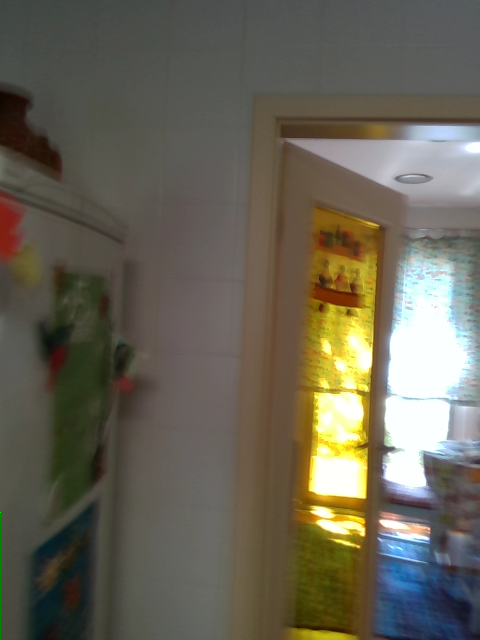semi: (230, 95, 479, 639)
